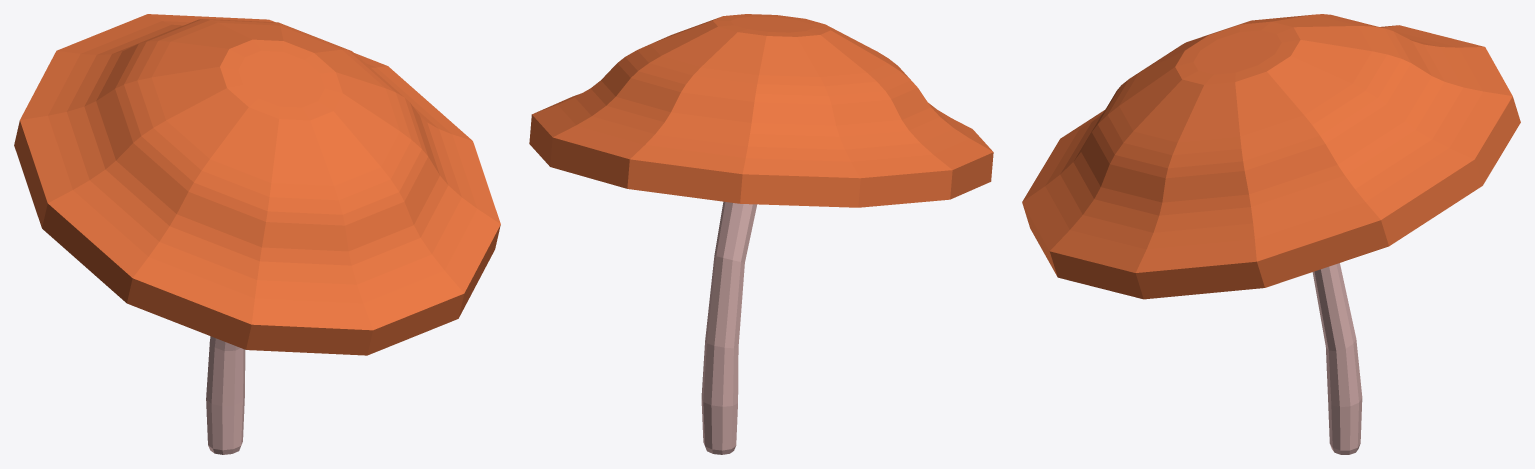
Rendered from MushroomStylized1.fbx.
3 views of the same model, side by side, from view 1: azimuth 30°, elevation 25°; view 2: azimuth 150°, elevation 25°; view 3: azimuth 270°, elevation 25° (orthographic). The views are drawn at different scales.
Visible parts, largest first — view 1: Cylinder.021, Cylinder.002; view 2: Cylinder.021, Cylinder.002; view 3: Cylinder.021, Cylinder.002.
Boxes of the visible parts, x1,y1,x2,y2 form: Cylinder.021: (14, 14, 500, 355); Cylinder.002: (206, 336, 245, 454); Cylinder.021: (529, 14, 993, 207); Cylinder.002: (701, 201, 757, 454); Cylinder.021: (1022, 14, 1520, 299); Cylinder.002: (1312, 263, 1362, 454).
Size of the model in its own units: 343 by 335 by 368.
